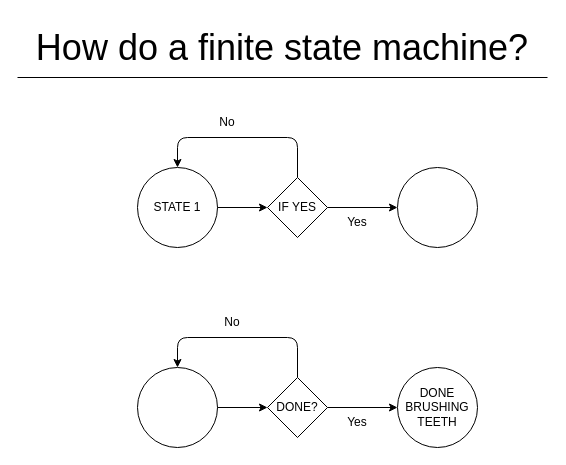
Image size: 566x465. Some labels were removed from this diagram. The shapes that lost their labels are listed below. From the top down, each one's centre as x and y in pixels, then its label:
At [437,207]: "STATE 2".
At [177,407]: "BRUSH TEETH".
